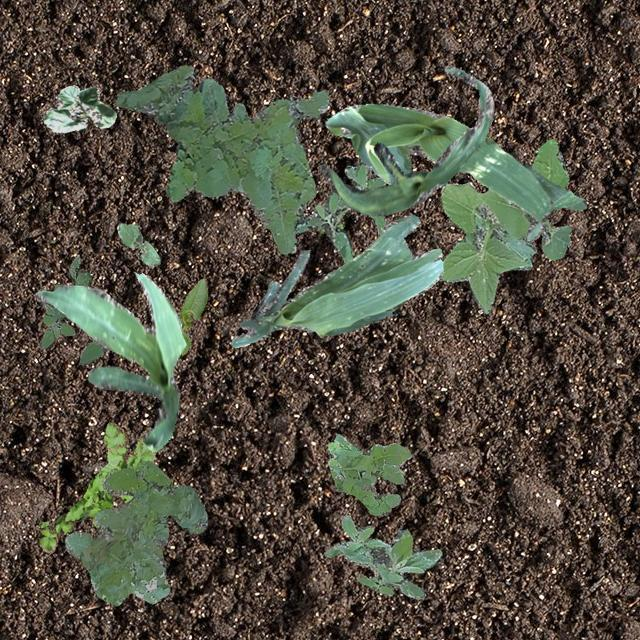crop: (324, 103, 586, 240), (230, 212, 442, 346), (34, 272, 184, 450), (318, 64, 492, 214), (41, 84, 116, 132), (178, 278, 206, 354), (116, 223, 160, 266)
weed: (114, 64, 328, 252), (438, 138, 570, 312), (64, 460, 206, 604), (38, 422, 156, 552), (324, 512, 441, 598), (292, 158, 384, 262), (38, 254, 104, 364), (327, 432, 412, 514), (316, 210, 344, 232)
